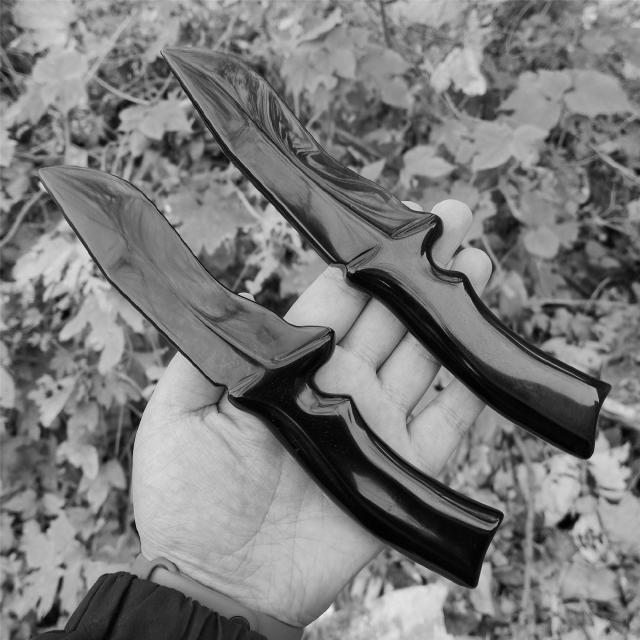Knife: (10, 165, 500, 621), (141, 34, 640, 474)
